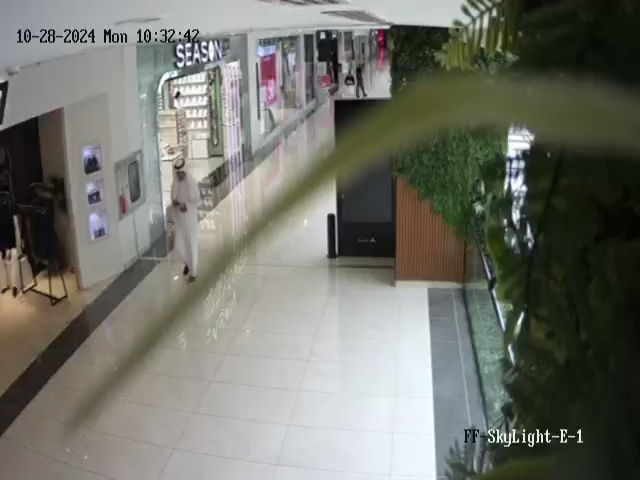male: (170, 154, 202, 283)
